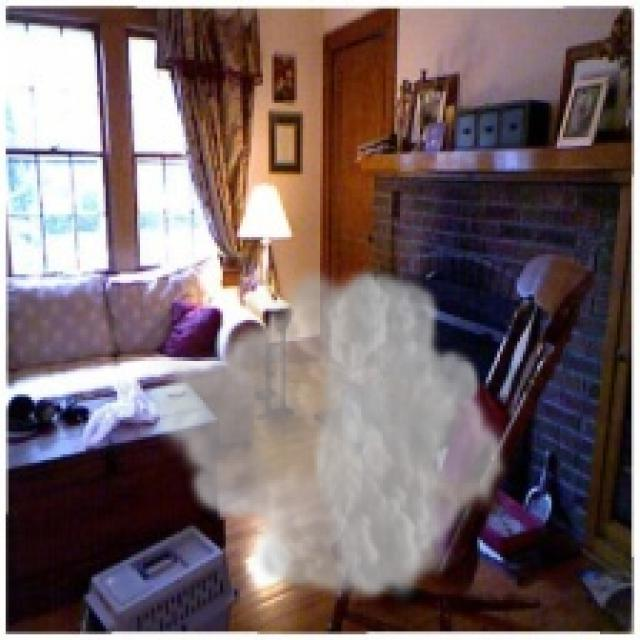smoke: (146, 260, 508, 609)
